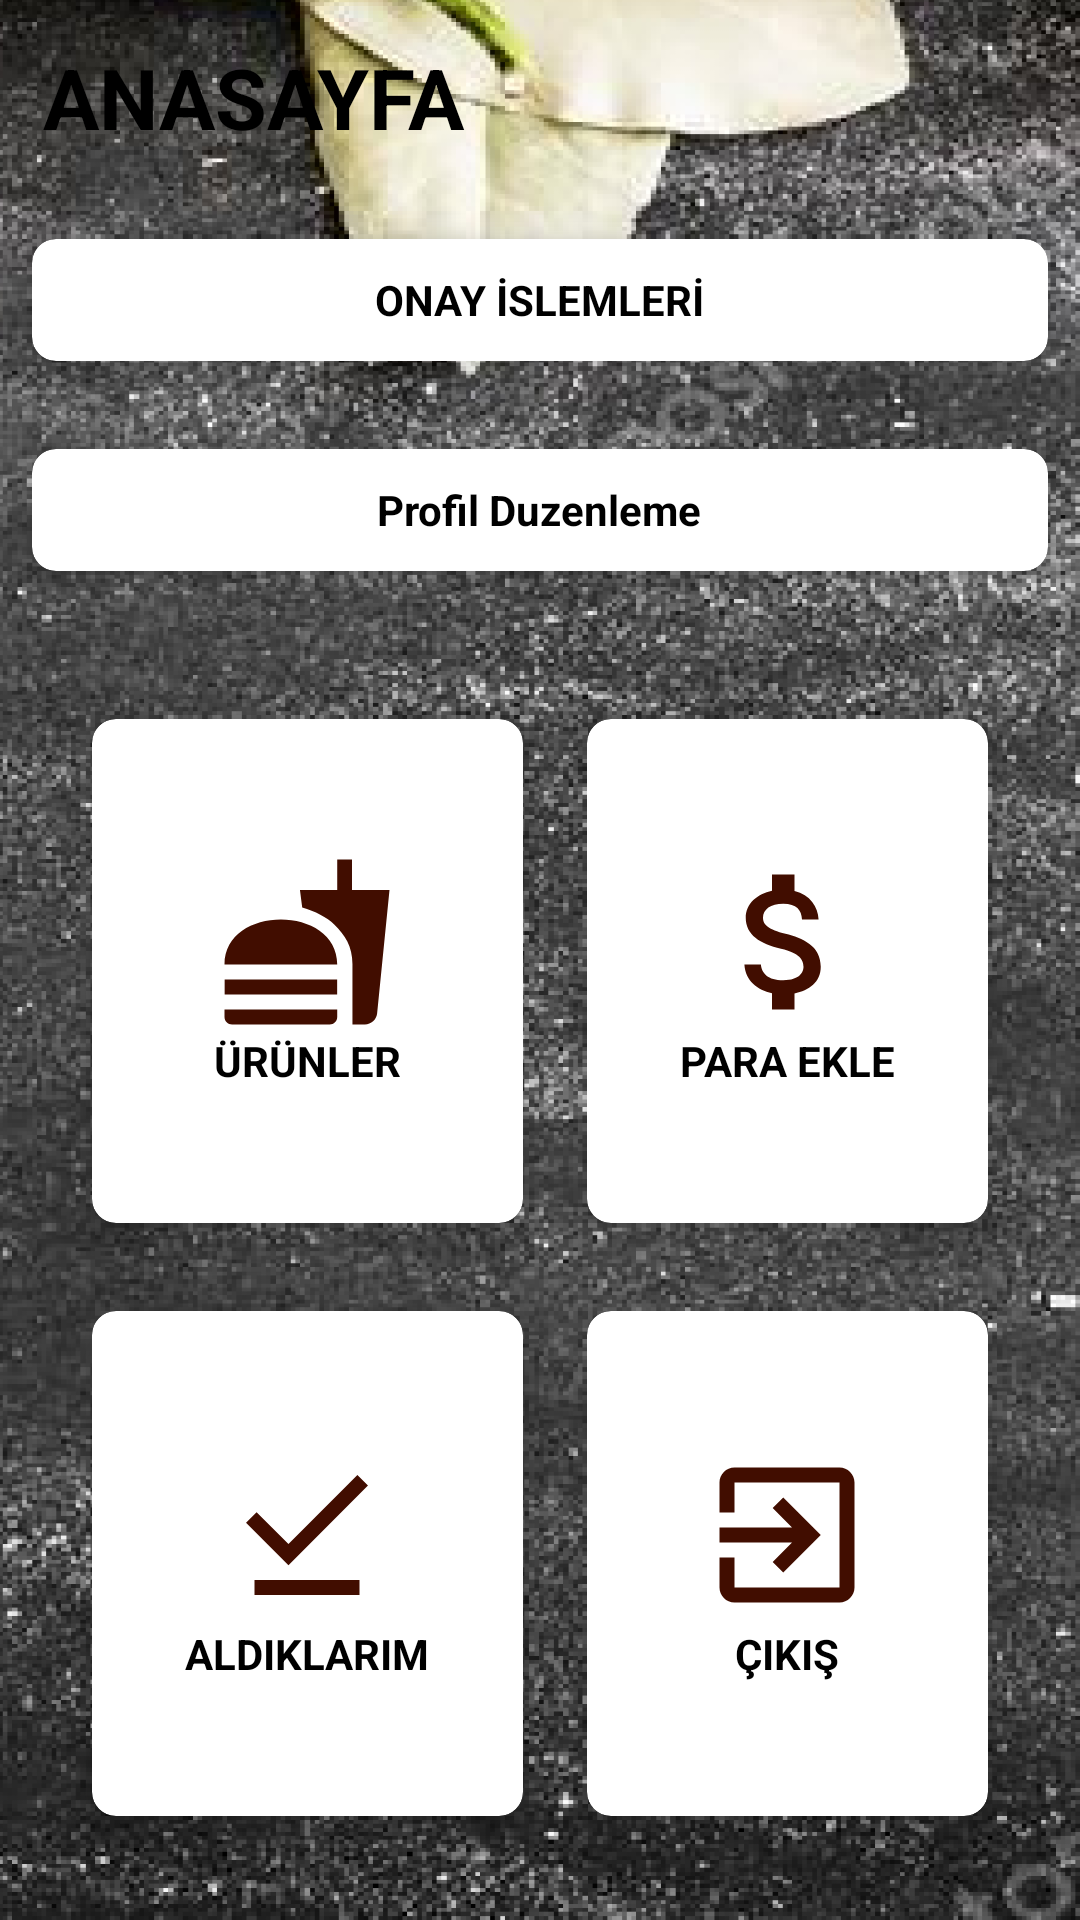

Point at icon controls on the screen. Image size 1080w x 1920h, points as [x,y].
attach money: [782,942]
download done: [307,1535]
exit to app: [787,1535]
fastfood: [307,942]
